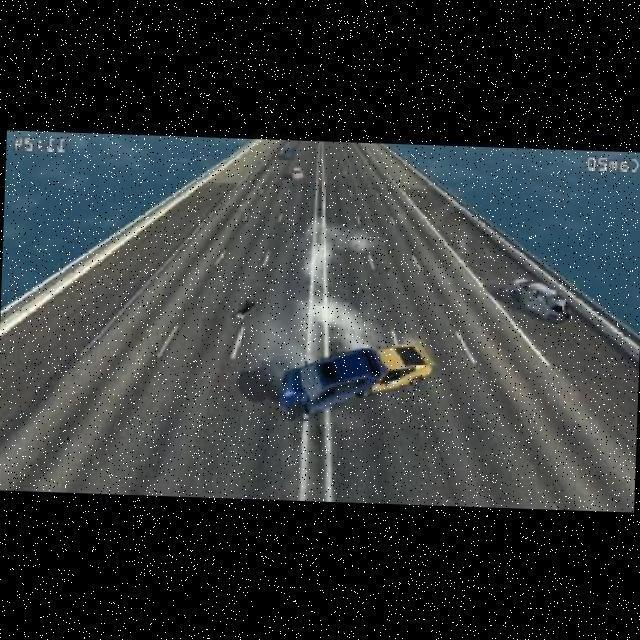accident: (264, 331, 432, 434)
